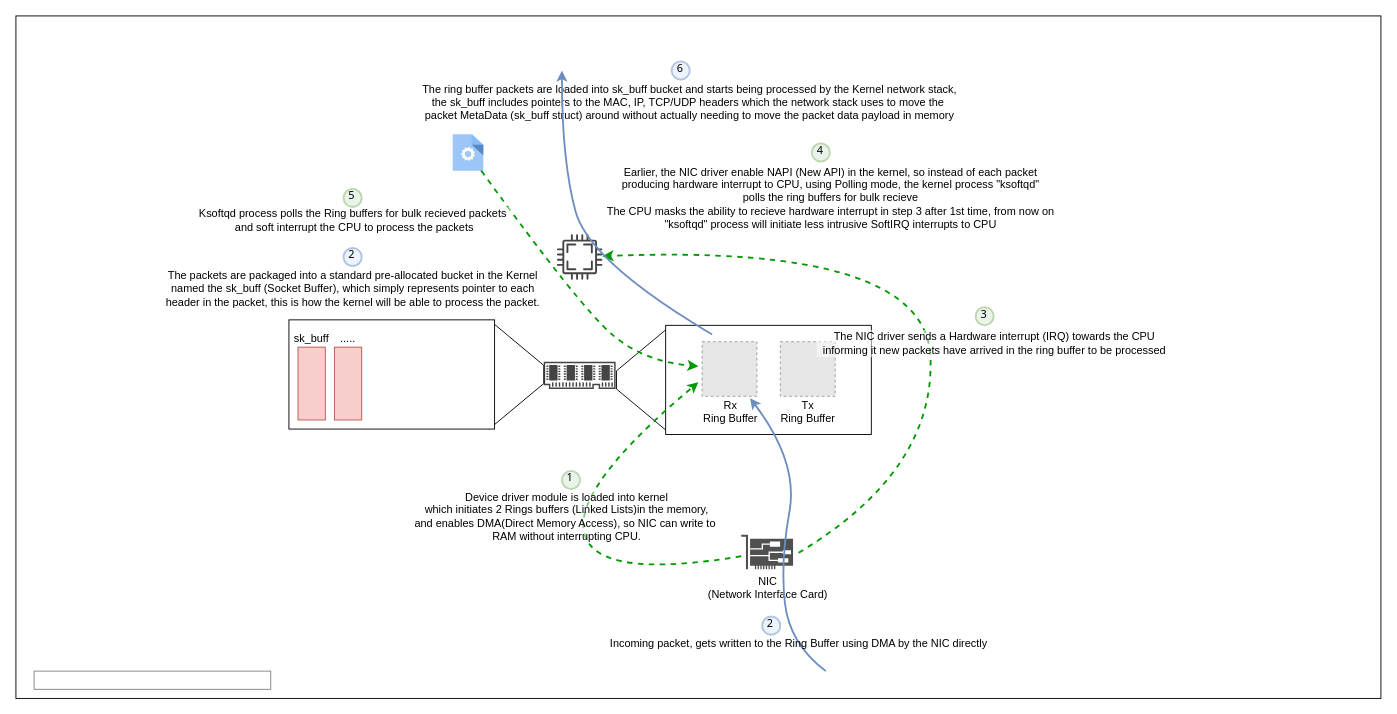
This 1397x714 diagram has some shape labels left out. Grey dashed boxes stand in for pictures. Each missing label, with the box of its shape:
CPU: (556, 234, 602, 279)
Ksoftqd process: (452, 134, 483, 170)
Linux Networking Part 1 : Kernel Net Stack: (33, 670, 271, 689)
Memory (RAM): (543, 361, 615, 389)
